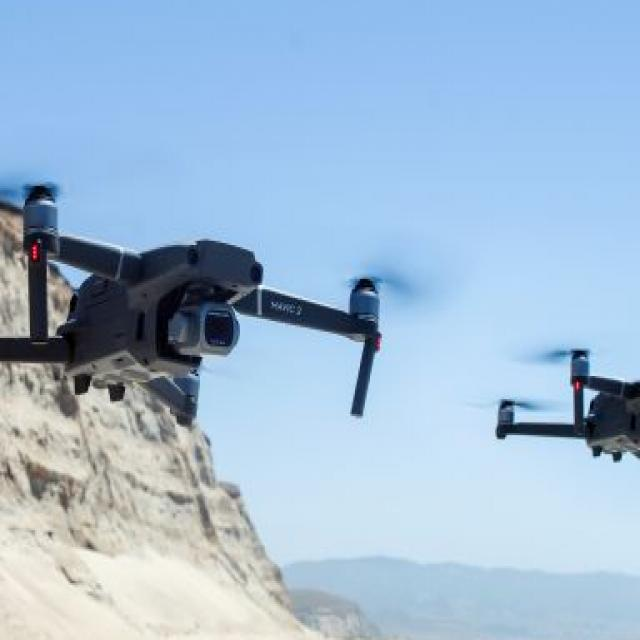drone: (0, 154, 397, 469), (478, 325, 640, 511)
